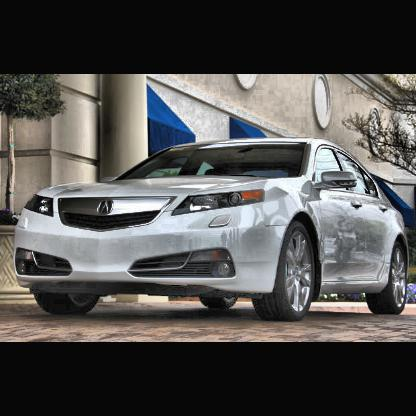Acura TL Sedan 2012: (8, 132, 413, 331)
